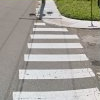crosswalk: (12, 22, 100, 100)
